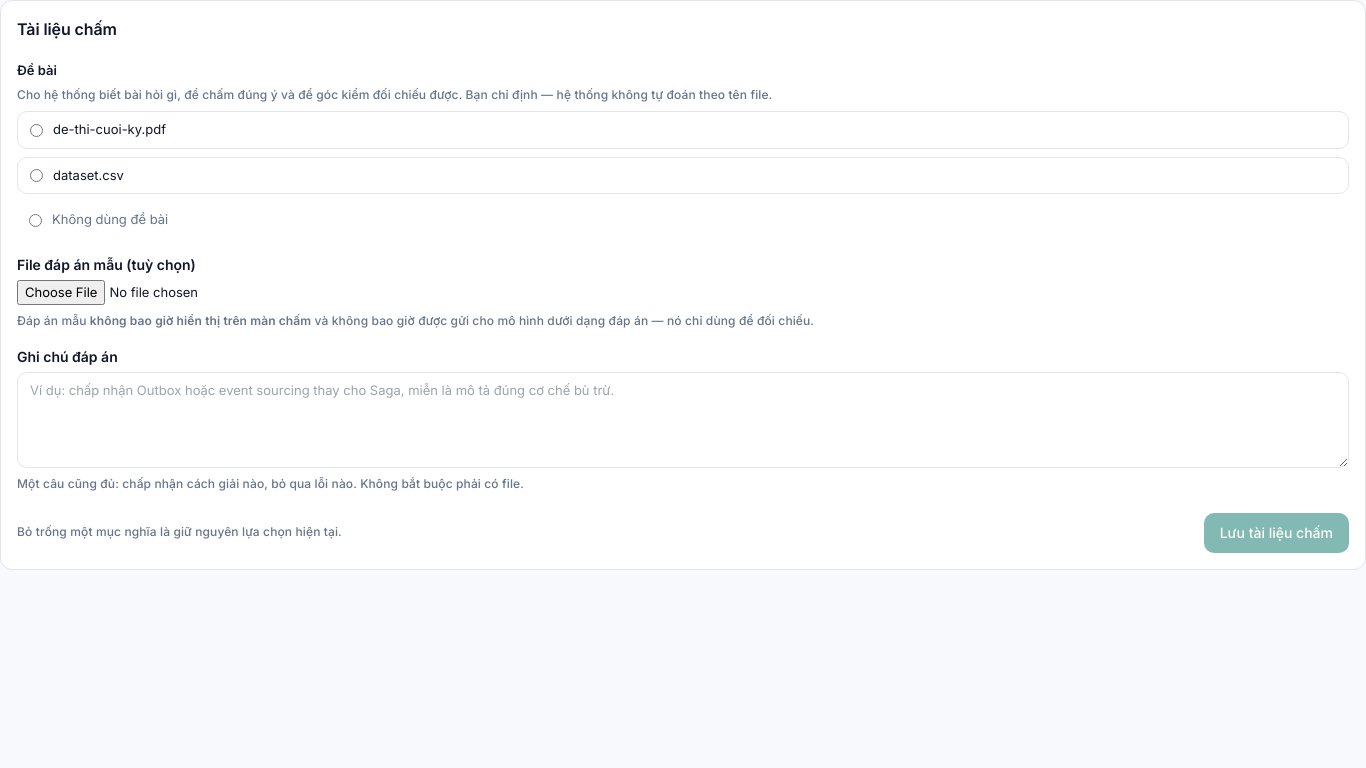
Test: ReferenceForm (spec §3.7 — replaces GradingReferenceDialog, same write rules) › dirty state (Review Focus 2: starting to grade locks the documents) › a failed save stays dirty
The width and height of the screenshot is (1366, 768).
Step 1. Replace the text in the text box labelled "Ghi chú đáp án" with "x" → (683, 420), box [17,372,1349,468]
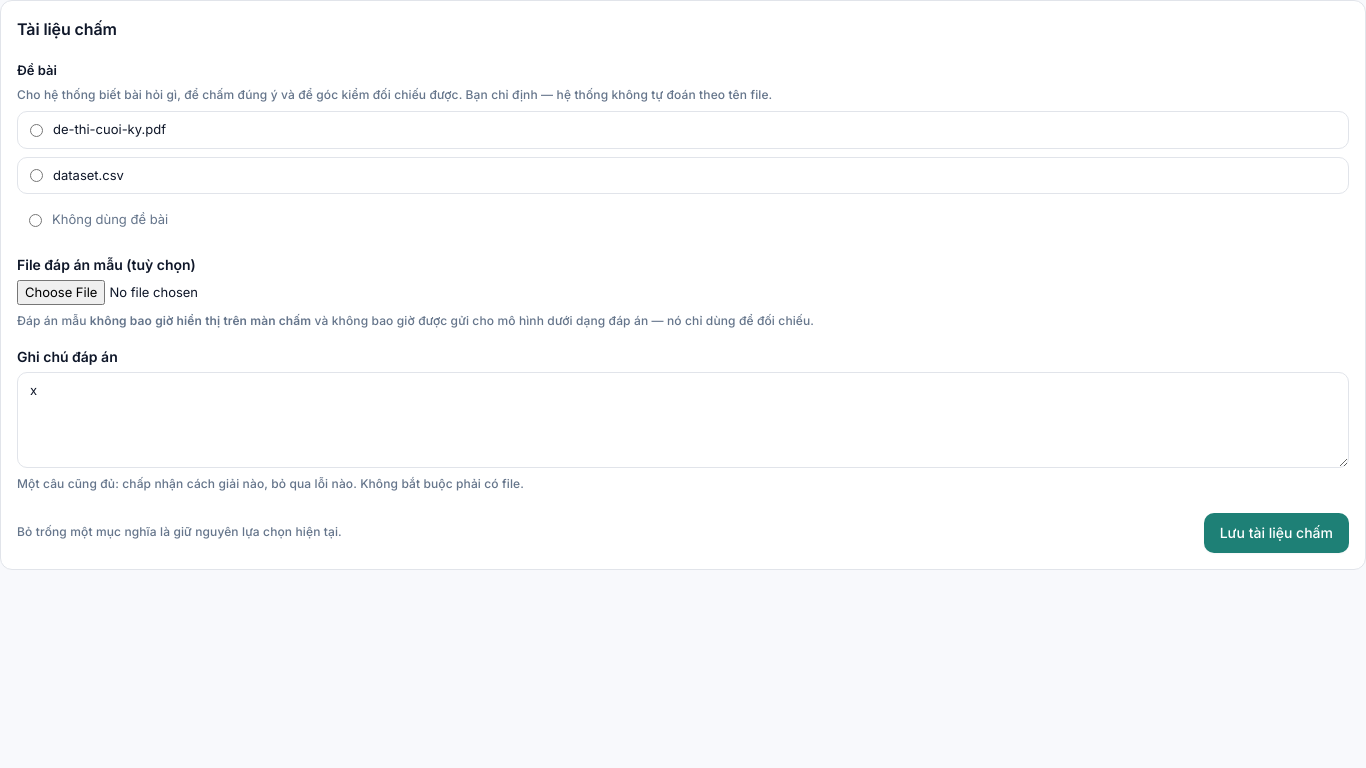
Step 2. Click the button "Lưu tài liệu chấm" → (1276, 533), box [1204,513,1349,553]
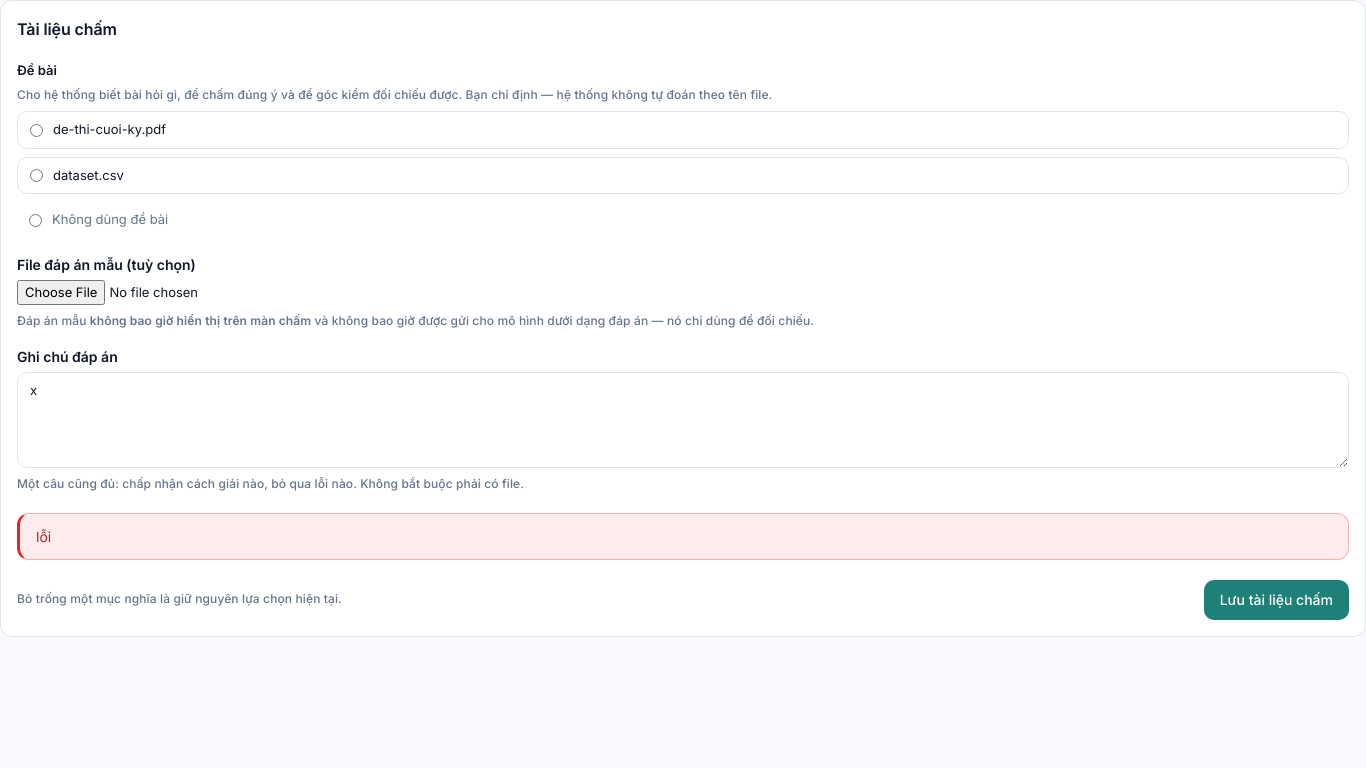
Expected: the message "lỗi" is shown, [17,513,1349,560]
